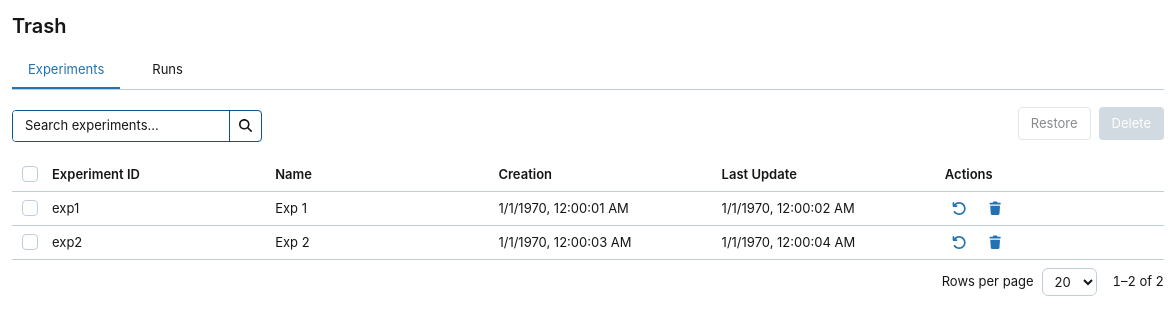
Scenario: TrashPage › handles individual selection
# checkboxes[0] is select-all, [1] is item1, [2] is item2
Click the checkbox next to "exp1" at (30, 208), box [22,200,38,216]
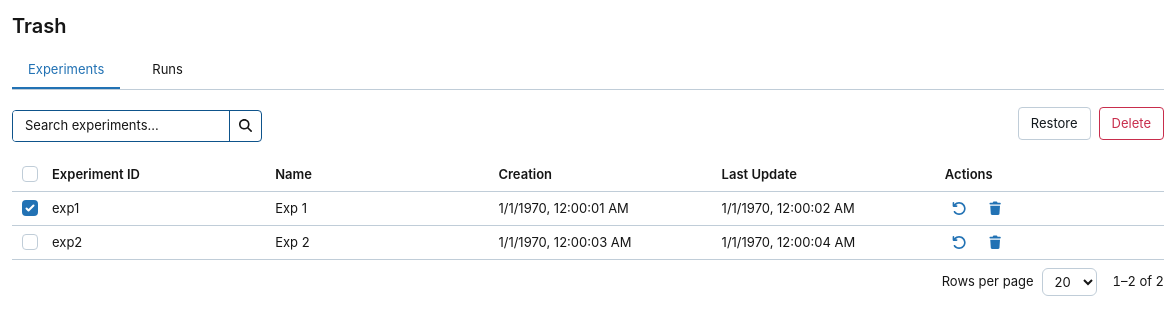
Now the button "Restore" is enabled, box [1018,107,1091,140]
Now the button "Delete" is enabled, box [1099,107,1164,140]
